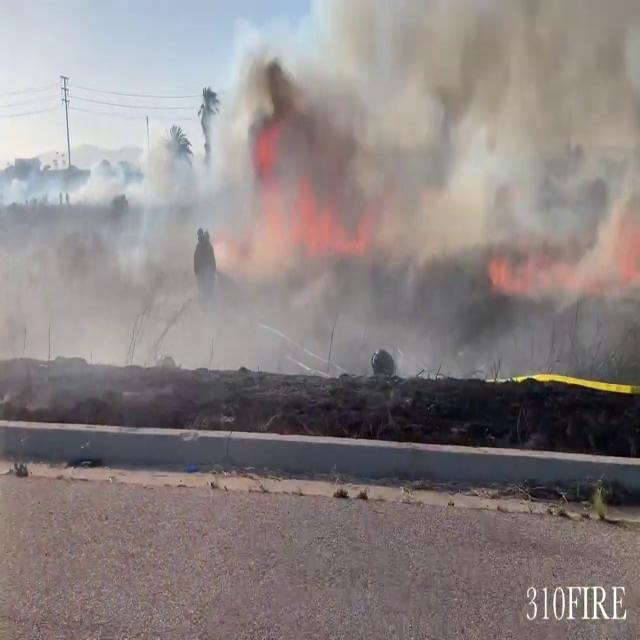Smoke: (24, 8, 640, 386)
